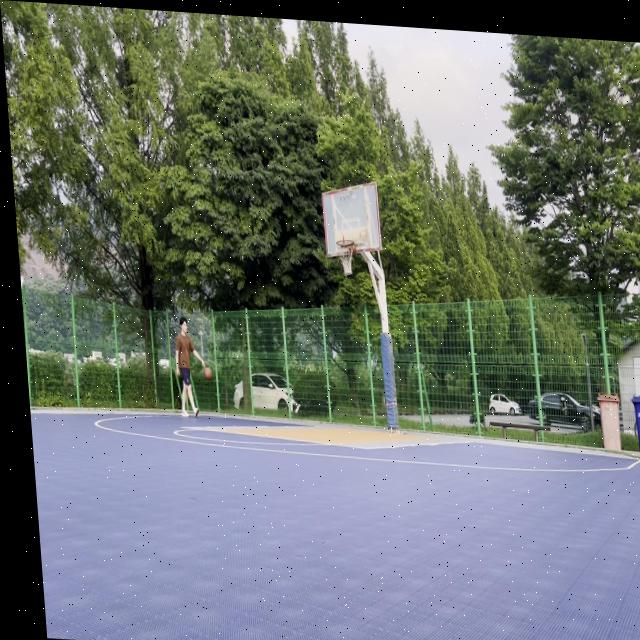basketball: (204, 367, 213, 381)
hoop: (336, 238, 357, 278)
